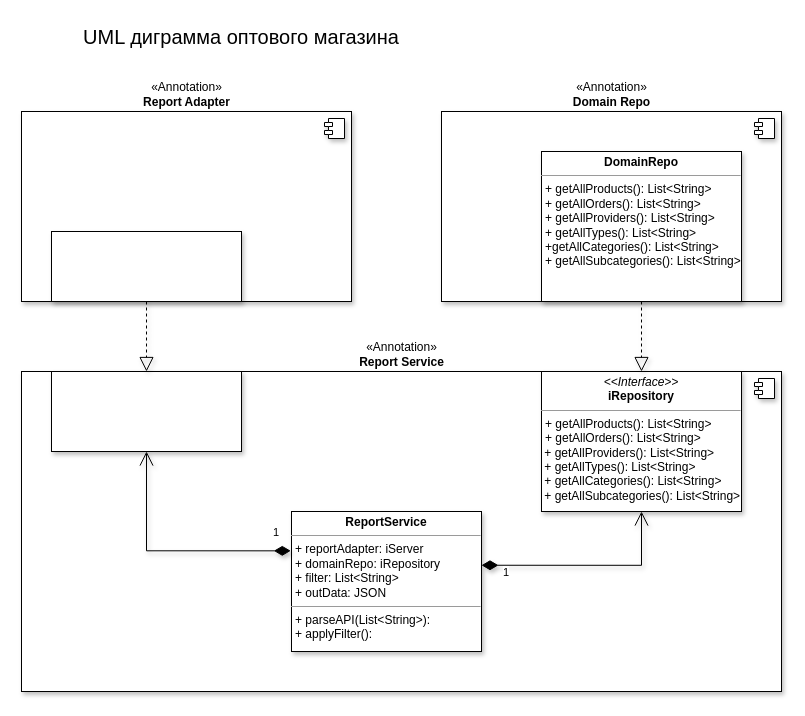
Some shapes in this 805 by 716 pixel diagram are drawn without their labels. Each missing label, with the centre of its shape:
"<<Interface>> iServer + commandAPI(): List<String> + postData(): JSON" belongs at [147,412].
"ReportAdapter + commandAPI(): List<String> + postData(): JSON" belongs at [147,267].
